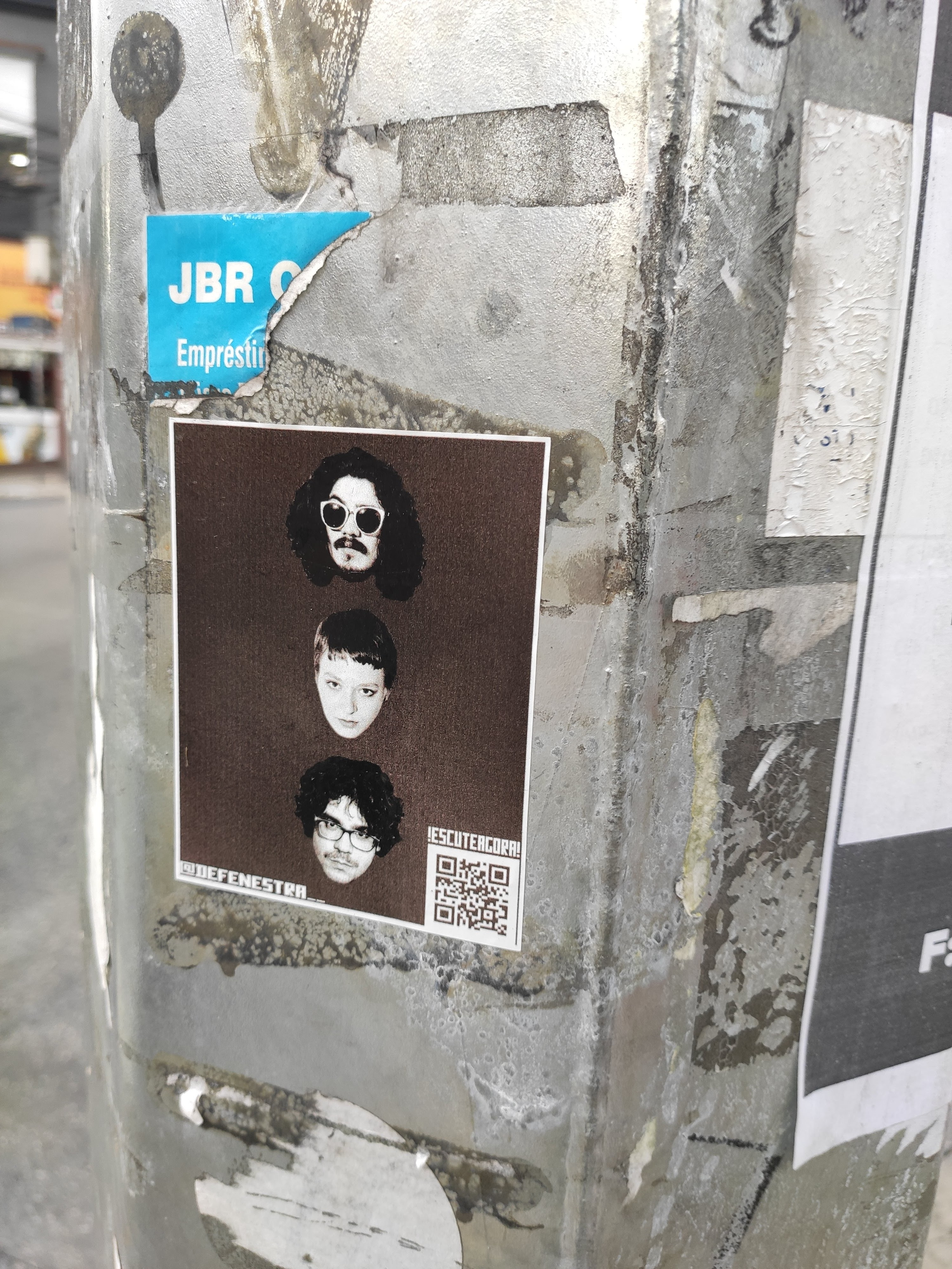QR-CODE: (434, 855, 509, 936)
